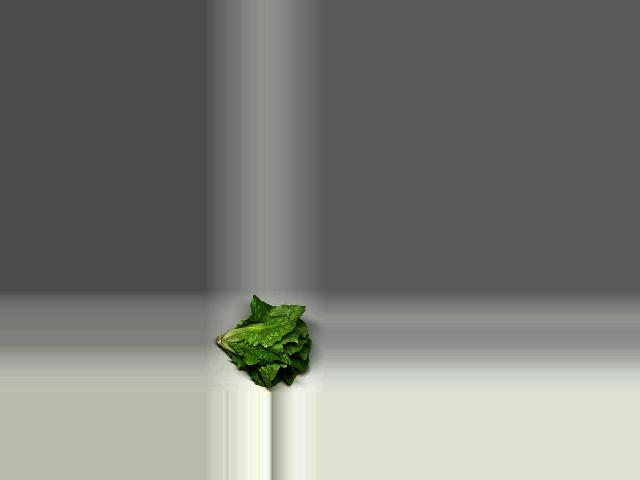lettuce: (208, 297, 315, 393)
